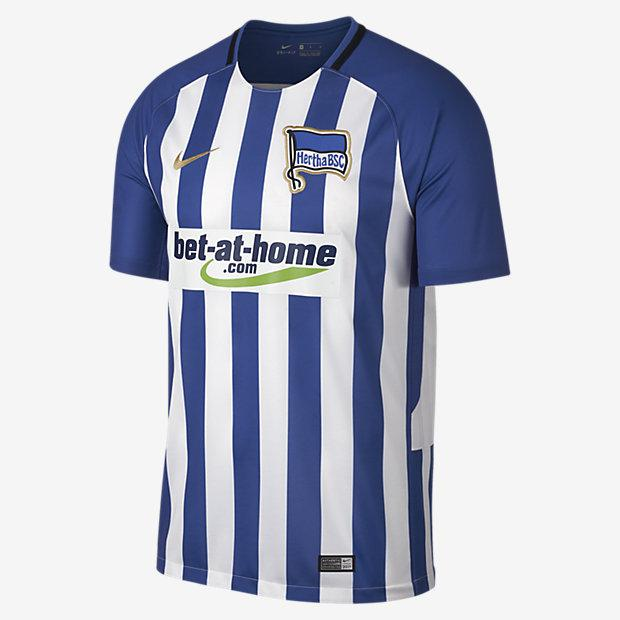teeshirt: (94, 10, 531, 599)
